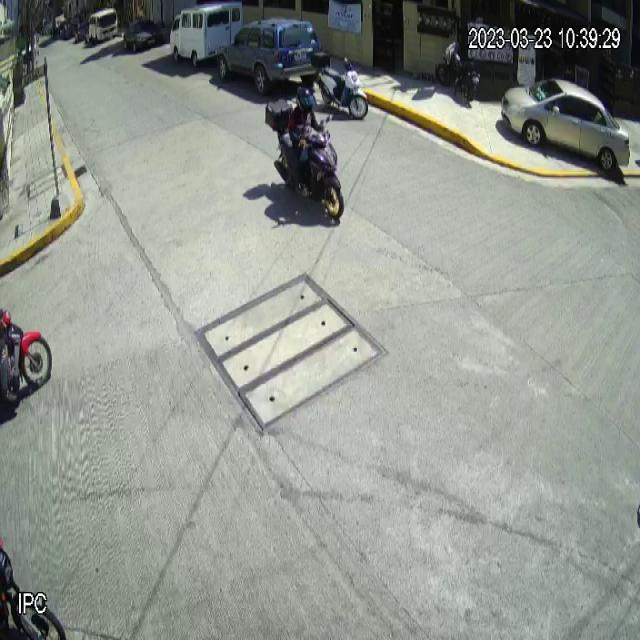Car: (500, 77, 631, 173), (217, 17, 323, 89)
Motorcycle: (264, 98, 344, 221), (310, 48, 368, 122)
Van: (170, 0, 243, 70)
